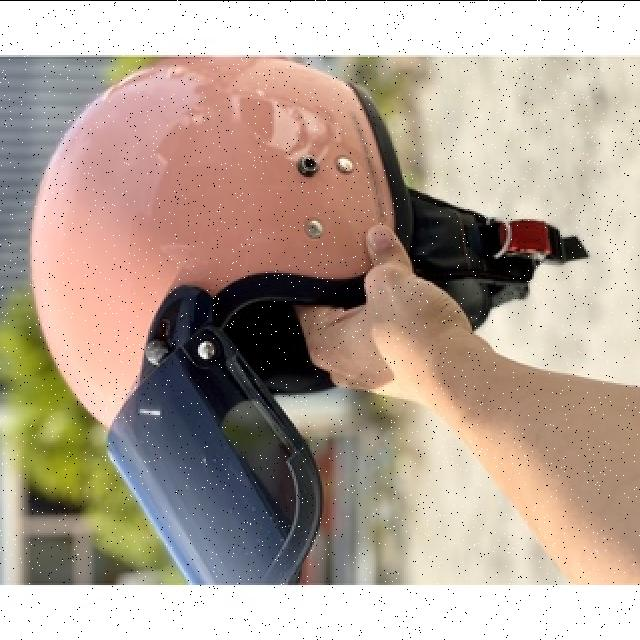Helmet: (30, 54, 582, 584)
